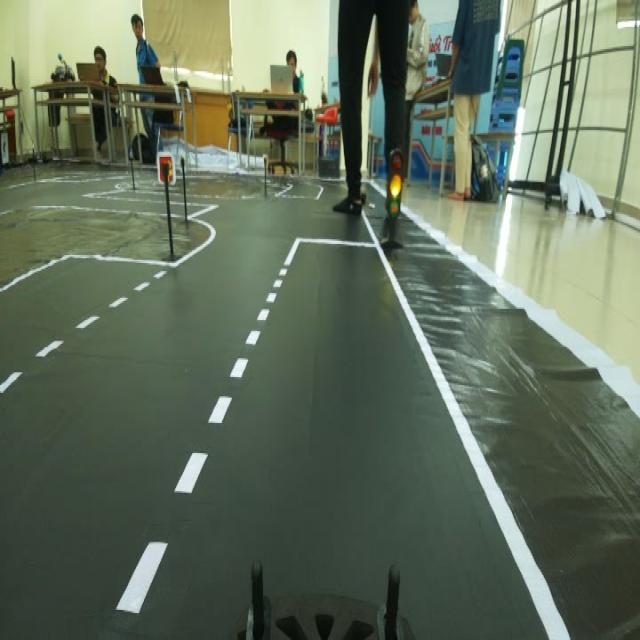trafficlight: (378, 137, 406, 269)
